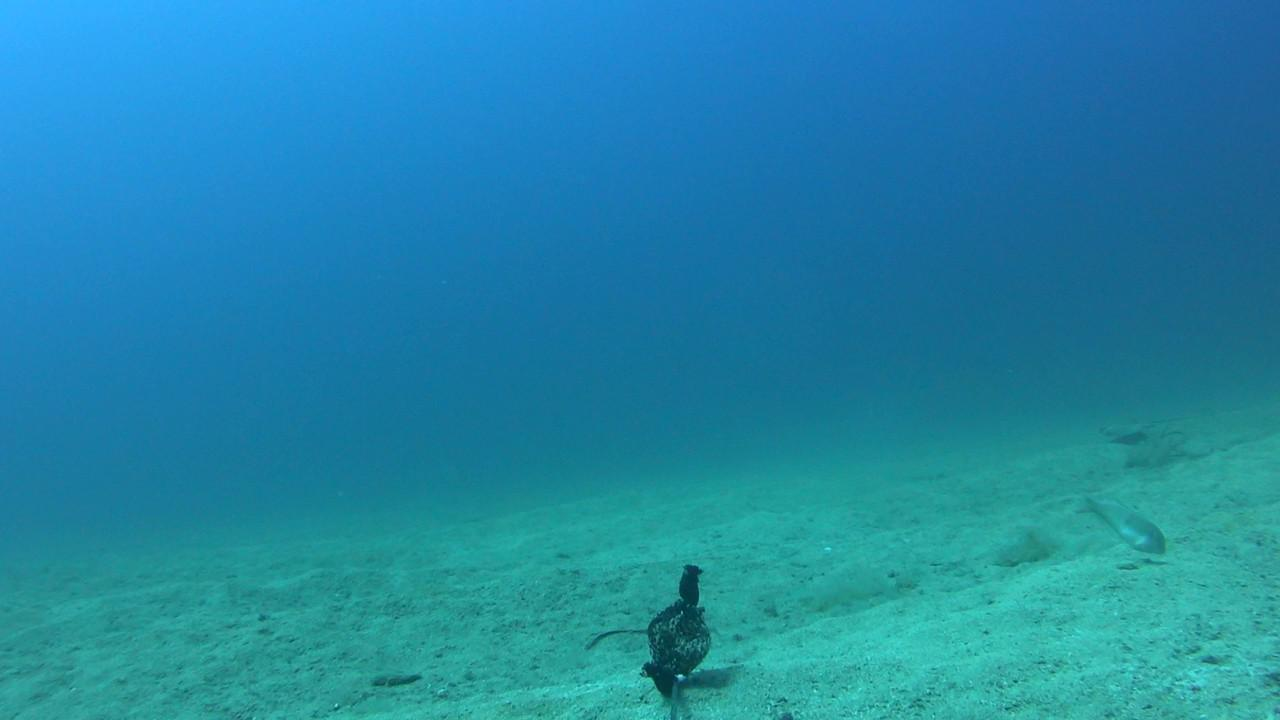myliobatis: (1072, 403, 1207, 445)
raor: (1076, 494, 1172, 556)
